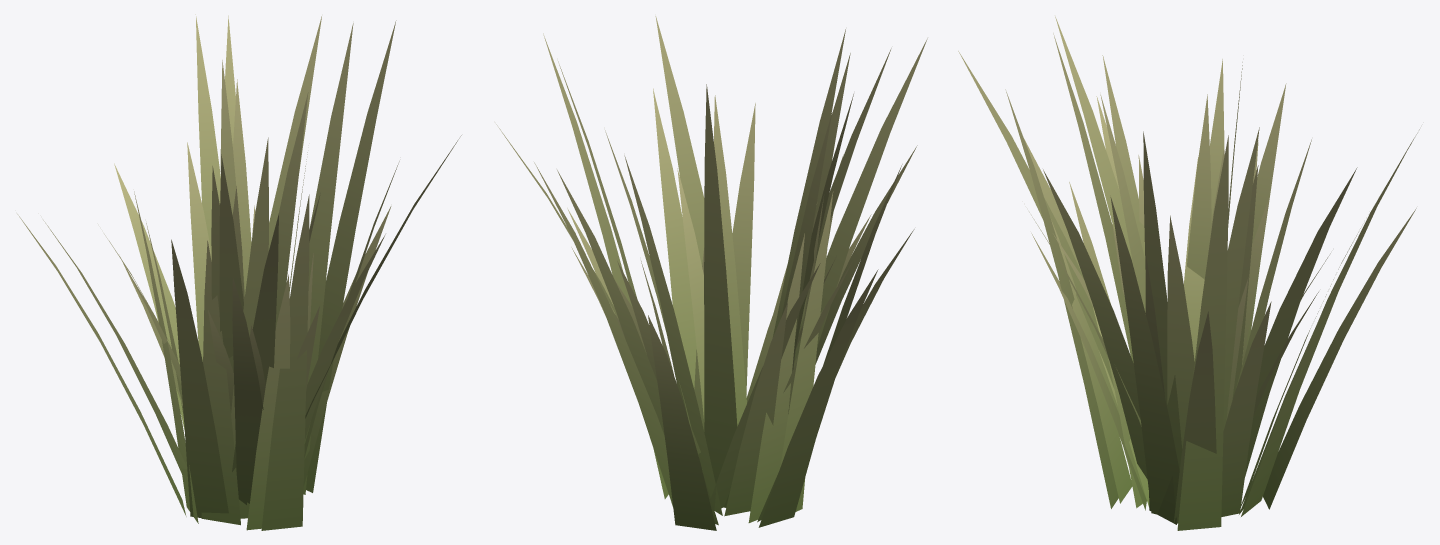
File: beach_grass.glb
3 renders of one model, left to right at view 1: azimuth 30°, elevation 25°; view 2: azimuth 150°, elevation 25°; view 3: azimuth 270°, elevation 25°, orthographic. The views are drawn at different scales.
Visible parts, largest first — view 1: beach_grass_2, beach_grass_0, beach_grass_1; view 2: beach_grass_1, beach_grass_2, beach_grass_0; view 3: beach_grass_2, beach_grass_1, beach_grass_0.
Boxes of the visible parts, x1,y1,x2,y2 form: beach_grass_2: [114, 15, 396, 530]; beach_grass_0: [43, 14, 391, 530]; beach_grass_1: [17, 60, 461, 523]; beach_grass_1: [605, 16, 917, 527]; beach_grass_2: [534, 29, 891, 530]; beach_grass_0: [496, 38, 927, 522]; beach_grass_2: [1029, 16, 1416, 530]; beach_grass_1: [1024, 62, 1318, 514]; beach_grass_0: [958, 51, 1419, 523].
Size of the model in its own units: 0.686 by 0.7812 by 0.7342.
